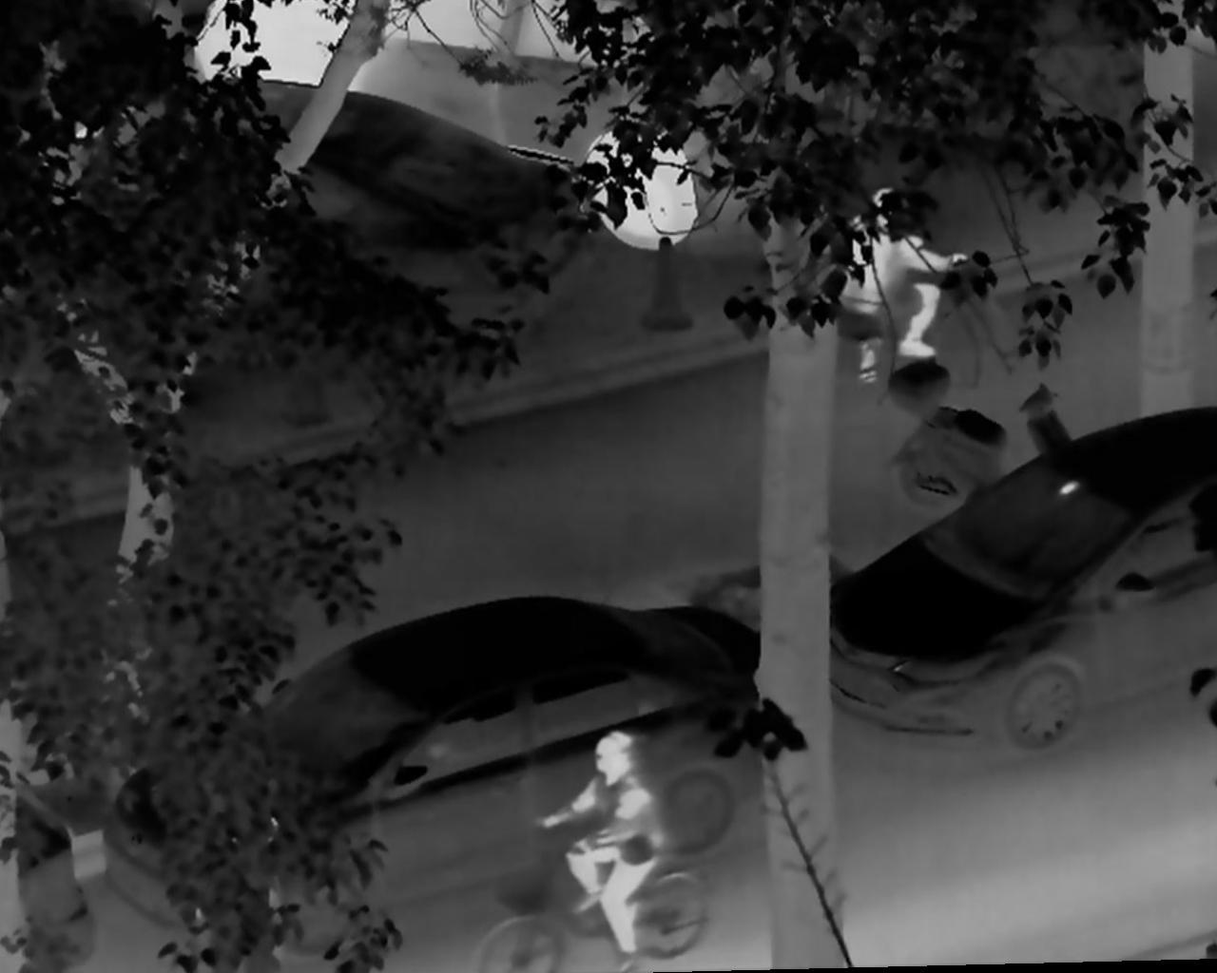person: (532, 724, 663, 973), (838, 178, 968, 390)
